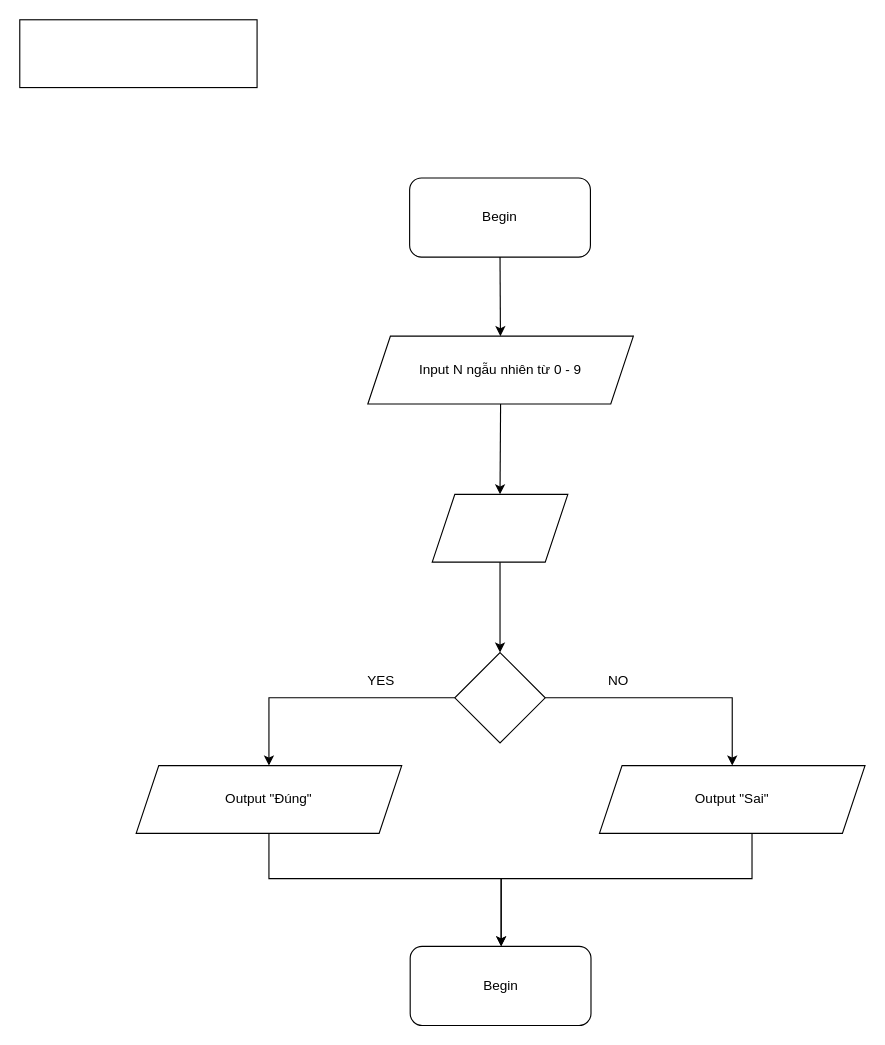
This 885x1045 diagram has some shape labels left out. Here are the shapes that lost their labels. From the top down, the centre of each, then its label:
At [138,53]: "Tên: Nguyễn Vinh Thiện".
At [499,527]: "Input M".
At [499,697]: "N == M".
